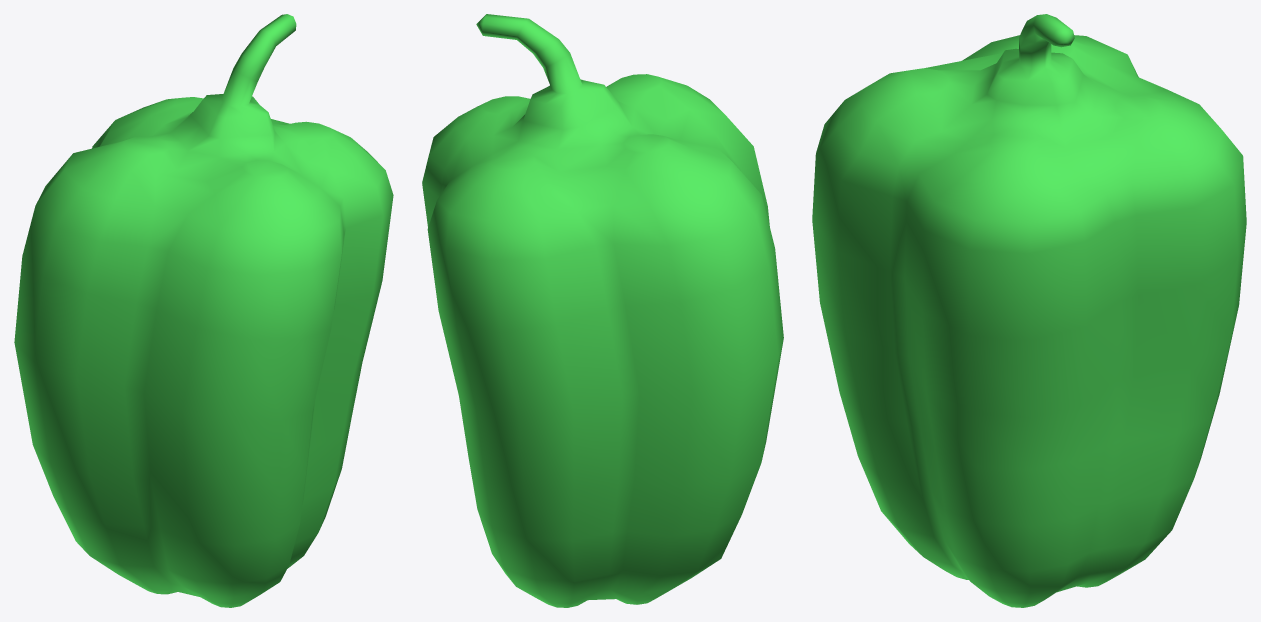
File: peperone_rosso_marcio.fbx
3 renders of one model, left to right at view 1: azimuth 30°, elevation 25°; view 2: azimuth 150°, elevation 25°; view 3: azimuth 270°, elevation 25°, orthographic. The views are drawn at different scales.
Visible parts, largest first — view 1: peperone_rosso_marcio; view 2: peperone_rosso_marcio; view 3: peperone_rosso_marcio.
Part boxes in pixels (<box>): peperone_rosso_marcio: <box>14,14,393,607</box>; peperone_rosso_marcio: <box>422,14,783,607</box>; peperone_rosso_marcio: <box>812,14,1246,607</box>.
Bounding box in the file's own units: 266 × 403 × 263.
